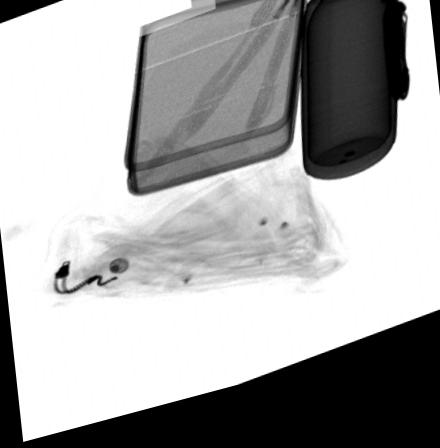Knife: (380, 0, 409, 123)
